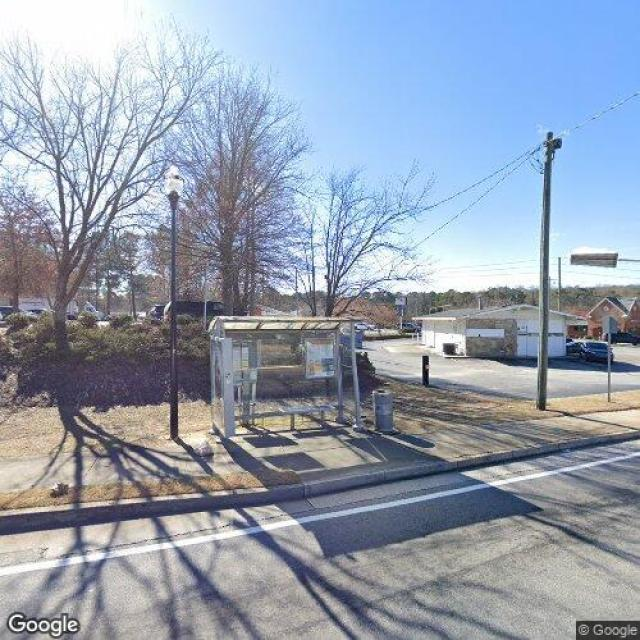seating: (279, 404, 338, 432)
shelter: (206, 316, 365, 443)
trash_can: (372, 387, 394, 432)
